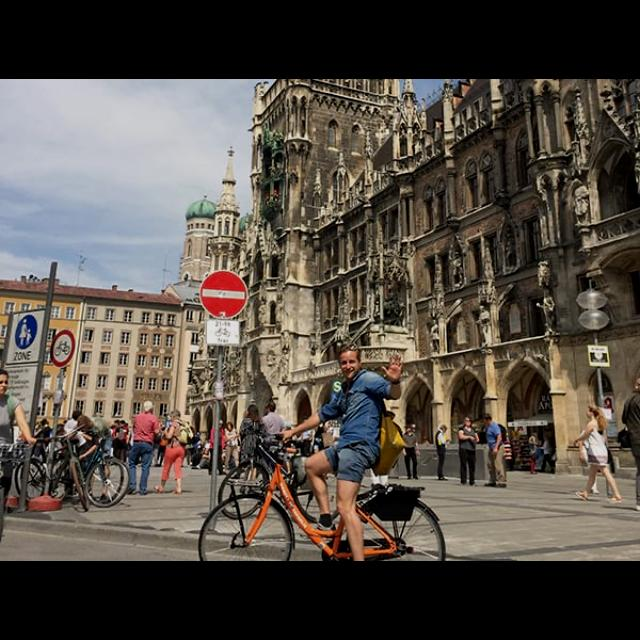Without Helmet: (332, 343, 366, 381)
